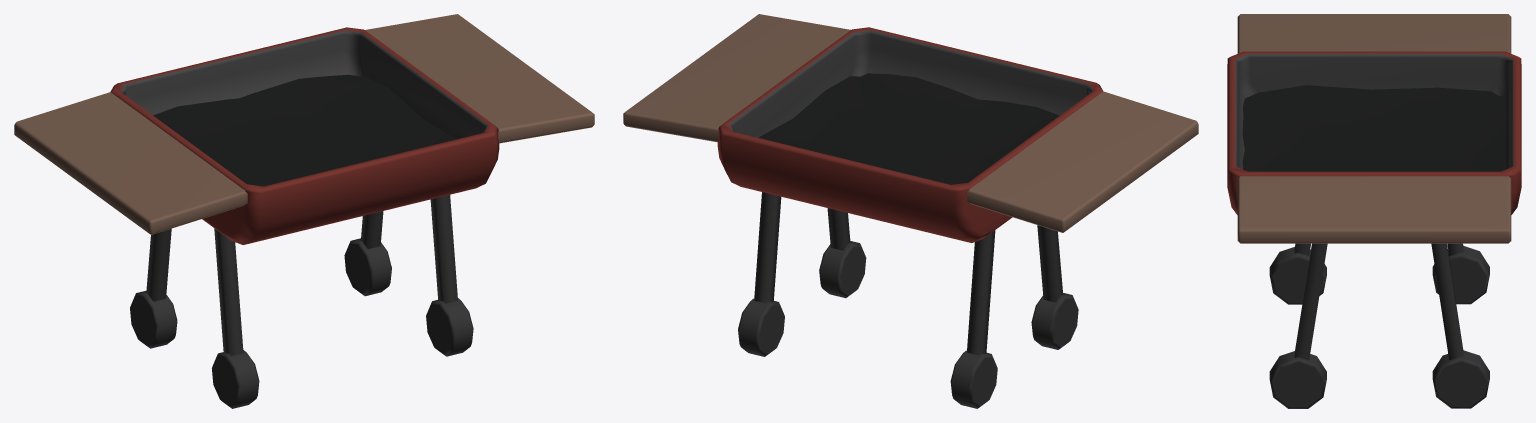
Rendered from bbq.gltf.
The picture shows the model from 3 angles, left to right: view 1: azimuth 30°, elevation 25°; view 2: azimuth 150°, elevation 25°; view 3: azimuth 270°, elevation 25°; orthographic projection.
Parts seen in each view (by area): view 1: Cube.015, Cube.016, Plane.005, Plane.004, Cylinder.001, Cylinder; view 2: Cube.015, Cube.016, Plane.005, Plane.004, Cylinder, Cylinder.001; view 3: Cube.016, Plane.005, Cube.015, Cylinder, Cylinder.001, Plane.004.
Boxes of the visible parts, bbox=[...] form: Cube.015: bbox=[110, 27, 499, 244]; Cube.016: bbox=[14, 14, 594, 234]; Plane.005: bbox=[153, 74, 456, 186]; Plane.004: bbox=[146, 195, 457, 355]; Cylinder.001: bbox=[212, 298, 473, 408]; Cylinder: bbox=[130, 238, 391, 348]; Cube.015: bbox=[717, 27, 1102, 242]; Cube.016: bbox=[623, 14, 1198, 232]; Plane.005: bbox=[759, 73, 1059, 184]; Plane.004: bbox=[754, 192, 1063, 355]; Cylinder: bbox=[738, 298, 997, 408]; Cylinder.001: bbox=[819, 241, 1078, 349]; Cube.016: bbox=[1237, 14, 1511, 243]; Plane.005: bbox=[1242, 85, 1505, 171]; Cube.015: bbox=[1227, 51, 1521, 214]; Cylinder: bbox=[1432, 246, 1489, 408]; Cylinder.001: bbox=[1269, 247, 1326, 408]; Plane.004: bbox=[1294, 243, 1463, 360].
Bounding box in the file's own units: 1.94 × 1 × 1.11.
